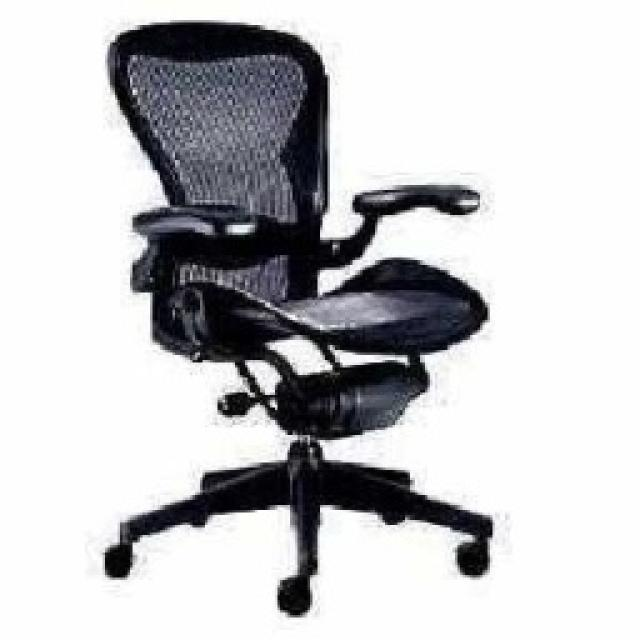sandalye: (100, 17, 492, 615)
